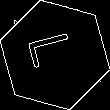L_E: (27, 34, 83, 76)
